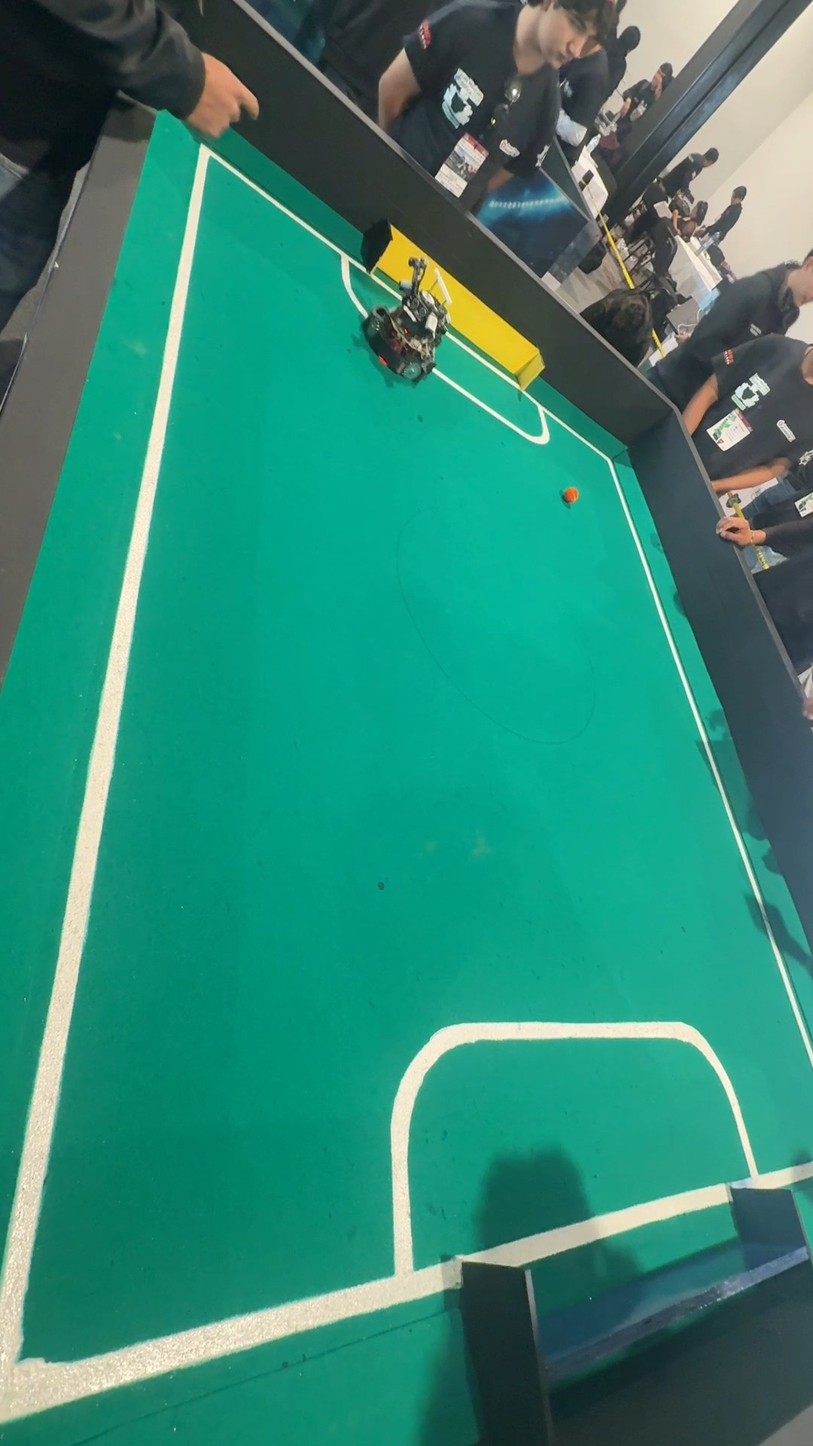Robot: (355, 244, 458, 401)
pelota: (557, 487, 577, 509)
